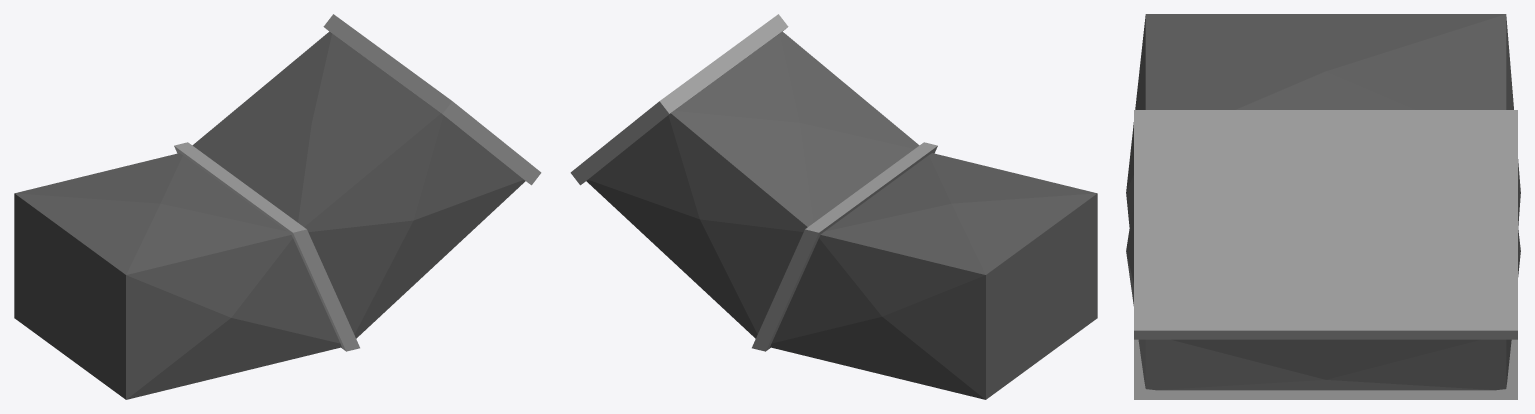
Rendered from vents_A_bend45.FBX.
3 views of the same model, side by side, from view 1: azimuth 30°, elevation 25°; view 2: azimuth 150°, elevation 25°; view 3: azimuth 270°, elevation 25° (orthographic). The views are drawn at different scales.
Parts seen in each view (by area): view 1: w; view 2: w; view 3: w.
Part boxes in pixels (x1,y1,x2,y2): w: [14, 14, 541, 399]; w: [570, 14, 1097, 399]; w: [1126, 14, 1520, 399].
Bounding box in the file's own units: 58.49 × 31.4 × 30.1.
